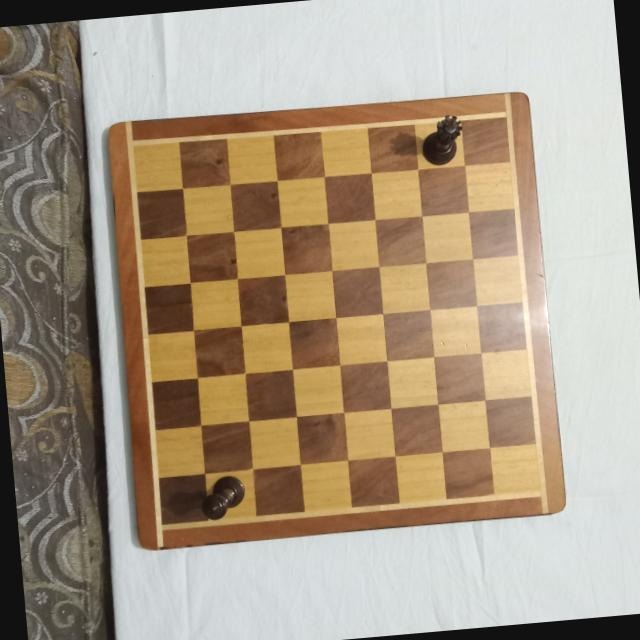black-king: (200, 474, 248, 521)
black-queen: (417, 112, 466, 168)
